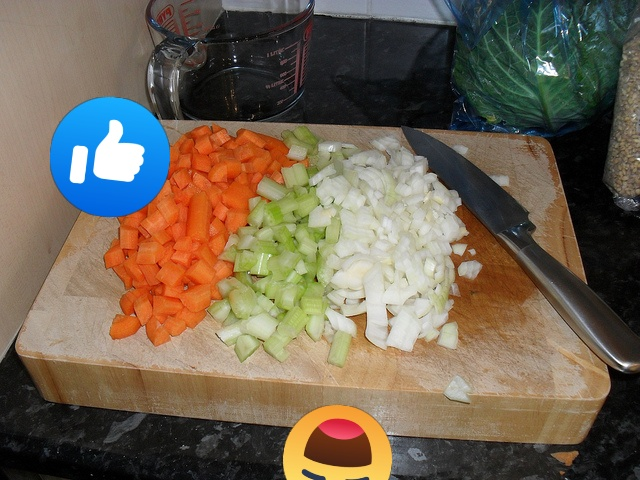haha: (283, 405, 392, 480)
like: (50, 97, 170, 217)
